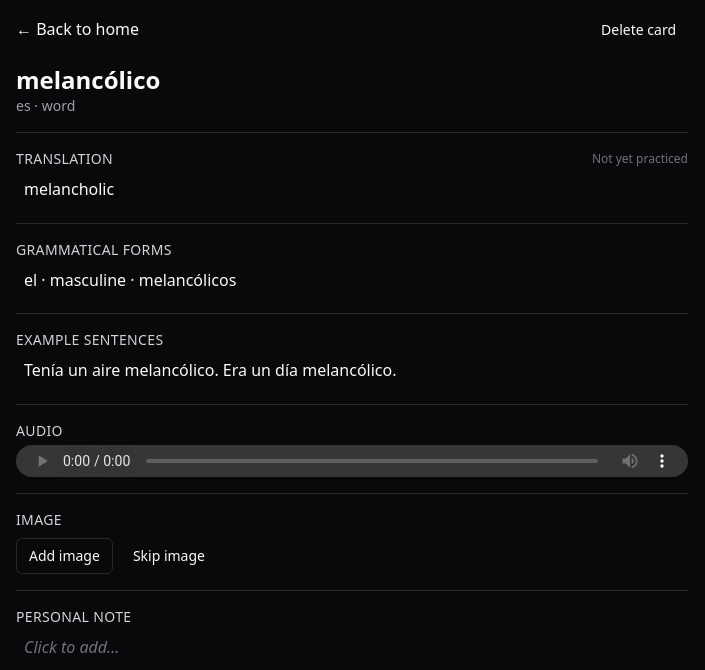
Scenario: CardDetail › shows 'Generating...' and disables button during image generation (AC1)
Click the button "Add image".
click(64, 556)  # box [16, 538, 113, 574]
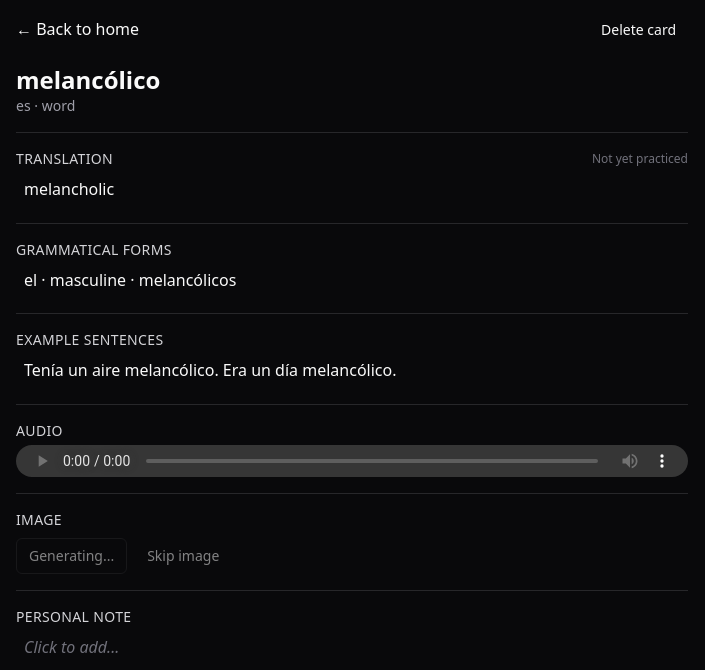
Expected: the button "Generating..." is shown, [16, 538, 127, 574]
